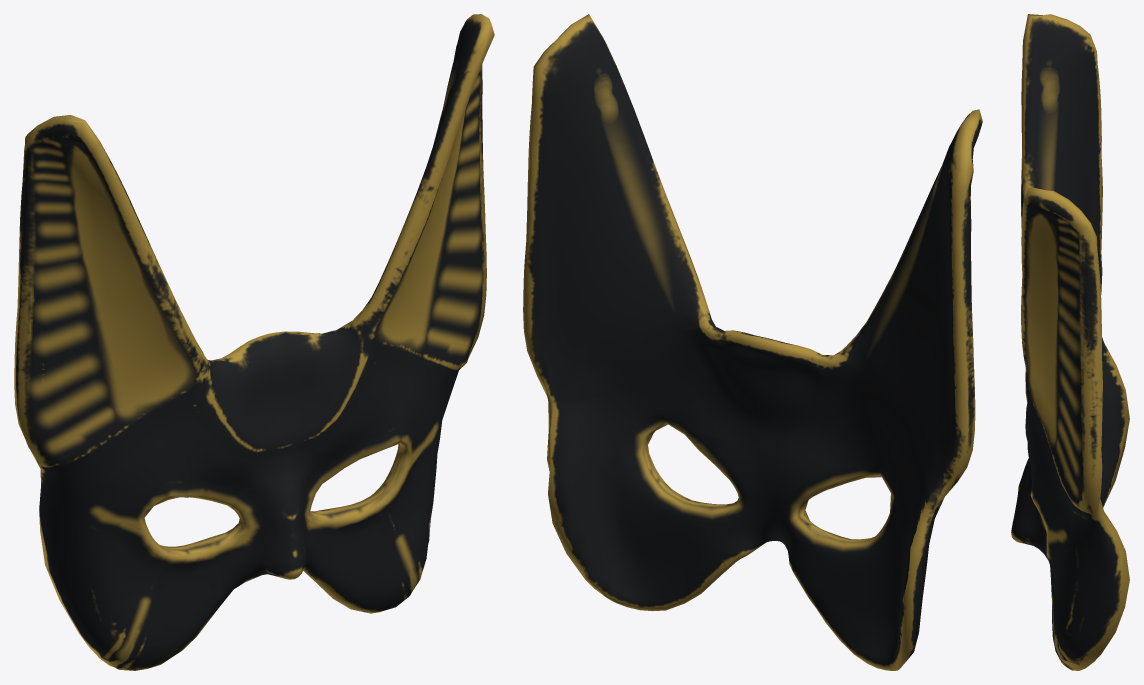
The model's file is egypt_cat_mask.glb.
3 views of the same model, side by side, from view 1: azimuth 30°, elevation 25°; view 2: azimuth 150°, elevation 25°; view 3: azimuth 270°, elevation 25° (orthographic). The views are drawn at different scales.
Parts seen in each view (by area): view 1: Object_2; view 2: Object_2; view 3: Object_2.
Boxes of the visible parts, x1,y1,x2,y2 form: Object_2: [14, 14, 494, 670]; Object_2: [523, 14, 982, 670]; Object_2: [1011, 14, 1129, 670].
Size of the model in its own units: 141 by 169 by 35.54.
1 material, 1 textured.
